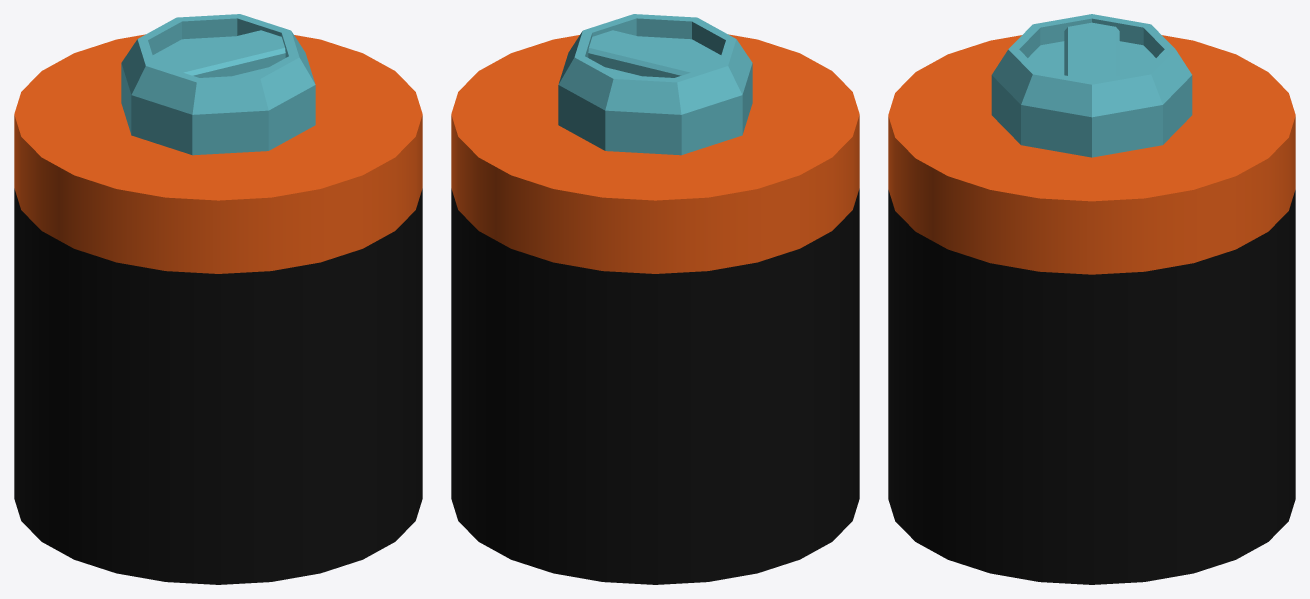
File: Pico_PowerBattery.glb
3 renders of one model, left to right at view 1: azimuth 30°, elevation 25°; view 2: azimuth 150°, elevation 25°; view 3: azimuth 270°, elevation 25°, orthographic.
Parts seen in each view (by area): view 1: mergedBlocks(Clone); view 2: mergedBlocks(Clone); view 3: mergedBlocks(Clone).
Boxes of the visible parts, x1,y1,x2,y2 form: mergedBlocks(Clone): [14, 14, 422, 584]; mergedBlocks(Clone): [451, 14, 859, 584]; mergedBlocks(Clone): [888, 14, 1295, 584].
Bounding box in the file's own units: 1 × 1.22 × 1.
1 material, 1 textured.
